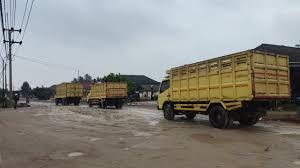Pothole: (181, 127, 247, 162), (51, 143, 95, 168), (127, 117, 155, 150), (68, 131, 109, 148)
